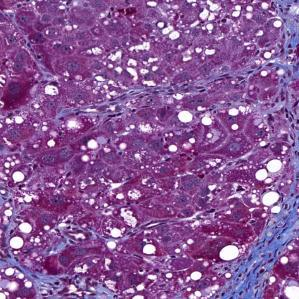fibrosis: (226, 210, 293, 293)
